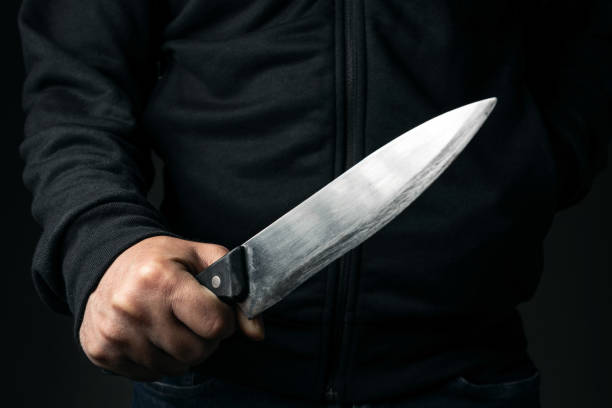knife: (239, 95, 501, 319)
